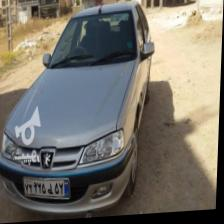plate: (23, 173, 74, 203)
